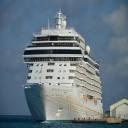cruises: (20, 7, 107, 123)
